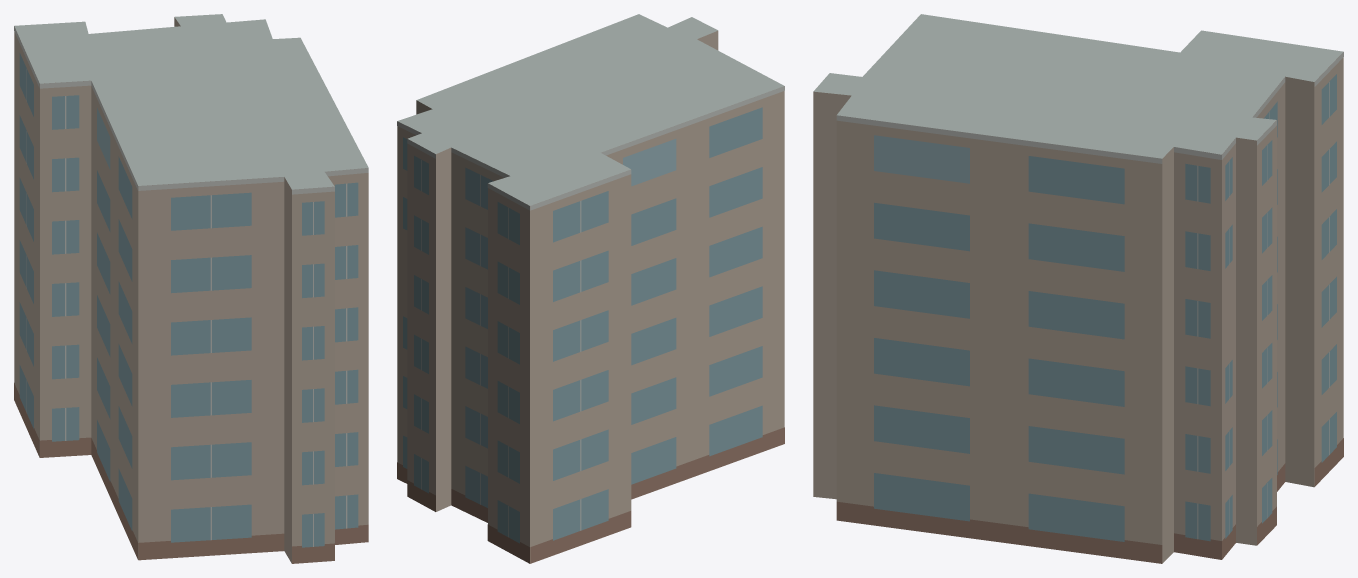
The model's file is survey-upis-32881407.glb.
The picture shows the model from 3 angles, left to right: view 1: azimuth 30°, elevation 25°; view 2: azimuth 150°, elevation 25°; view 3: azimuth 270°, elevation 25°; orthographic projection. The views are drawn at different scales.
Visible parts, largest first — view 1: survey-upis-32881407.tmp; view 2: survey-upis-32881407.tmp; view 3: survey-upis-32881407.tmp.
Boxes of the visible parts, <box> form: survey-upis-32881407.tmp: <box>14,14,368,563</box>; survey-upis-32881407.tmp: <box>397,14,784,563</box>; survey-upis-32881407.tmp: <box>813,14,1343,563</box>.
Size of the model in its own units: 14.1 by 18.4 by 21.84.
